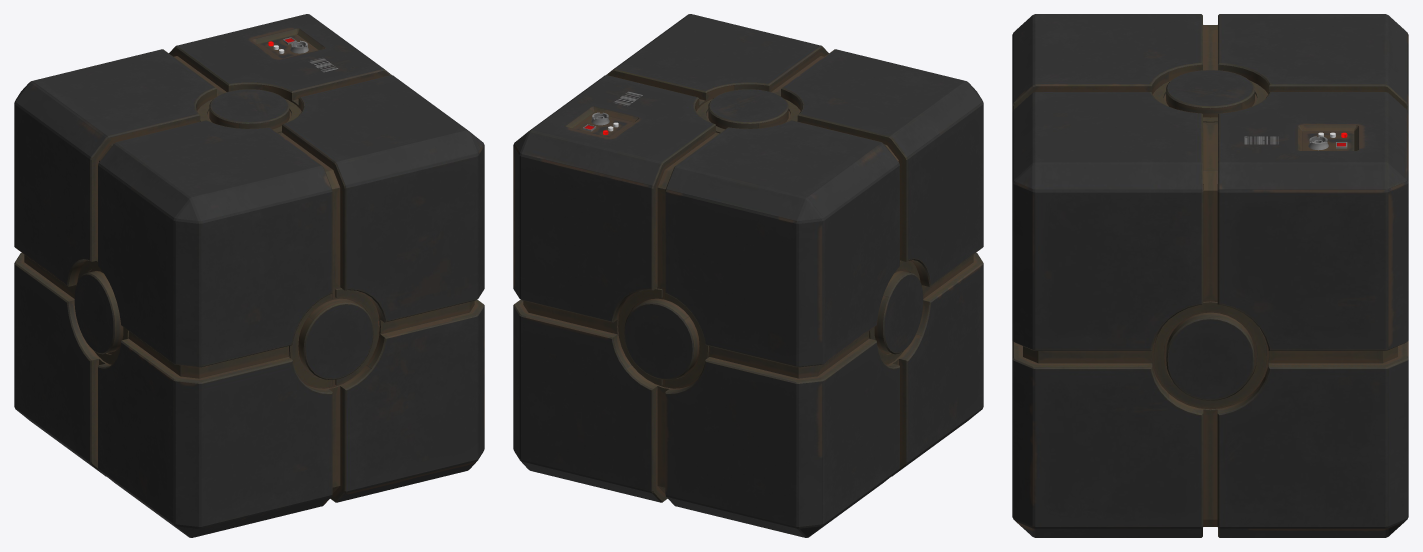
3 renders of one model, left to right at view 1: azimuth 30°, elevation 25°; view 2: azimuth 150°, elevation 25°; view 3: azimuth 270°, elevation 25°, orthographic. The views are drawn at different scales.
Visible parts, largest first — view 1: crate-cube-medium; view 2: crate-cube-medium; view 3: crate-cube-medium.
Part boxes in pixels (x1,y1,x2,y2): crate-cube-medium: (14, 14, 484, 537); crate-cube-medium: (513, 14, 983, 537); crate-cube-medium: (1012, 14, 1408, 537).
Bounding box in the file's own units: 0.988 × 1.04 × 0.988.
Materials: 1 (1 with a texture image).
